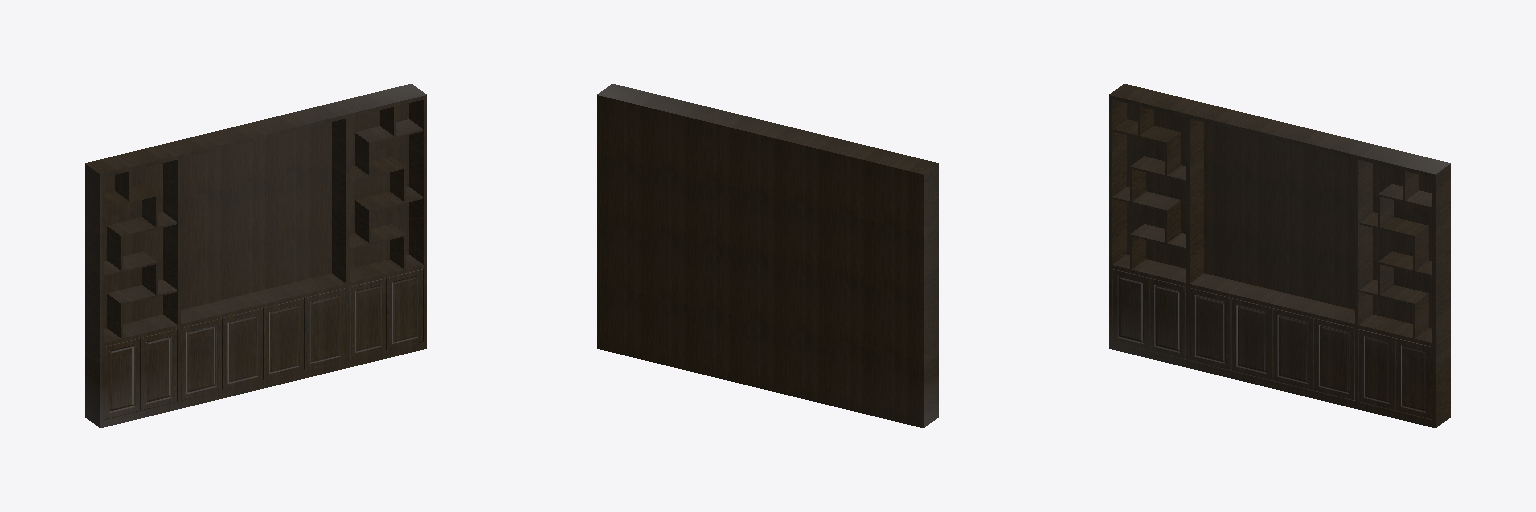
The picture shows the model from 3 angles: view 1: azimuth 30°, elevation 25°; view 2: azimuth 150°, elevation 25°; view 3: azimuth 330°, elevation 25°; orthographic projection.
Visible parts, largest first — view 1: solid_001; view 2: solid_001; view 3: solid_001.
Boxes of the visible parts, <box> form: solid_001: <box>85,84,426,427</box>; solid_001: <box>597,84,938,427</box>; solid_001: <box>1109,84,1450,427</box>.
Bounding box in the file's own units: 1.61 × 1.19 × 0.1328.
Materials: 1 (1 with a texture image).